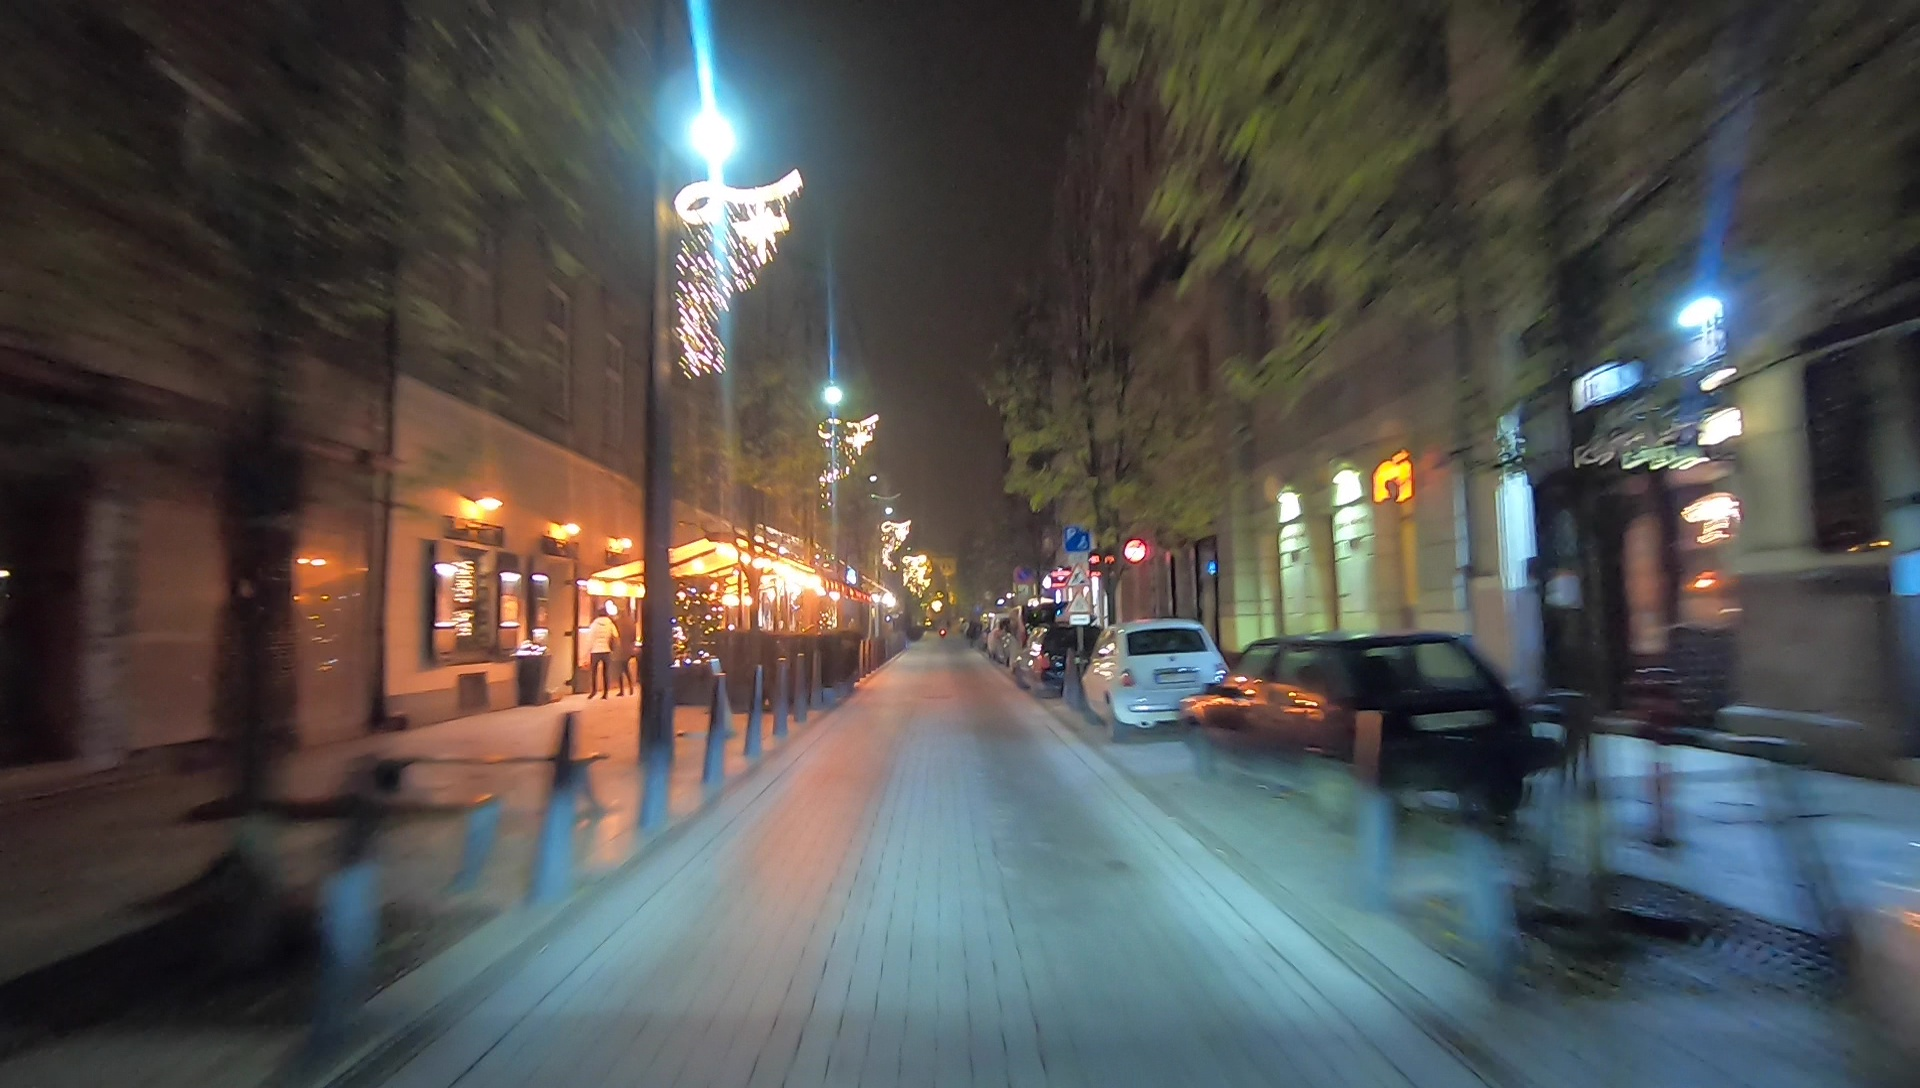person: (584, 610, 610, 697), (610, 606, 634, 699)
